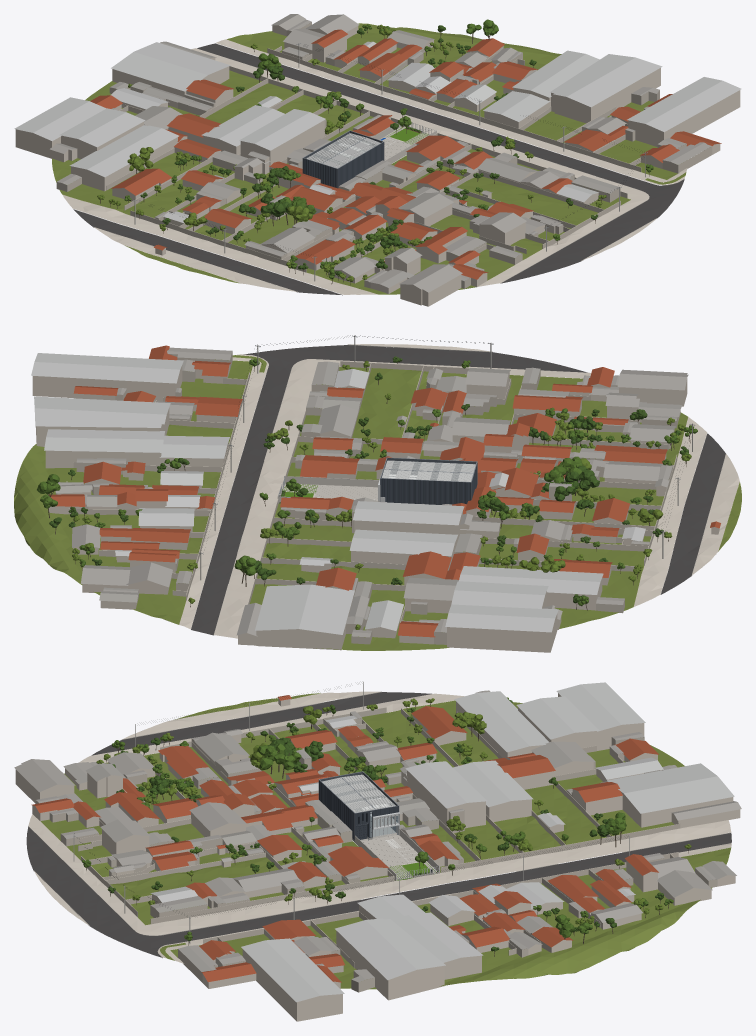
File: modelo.glb
3 views of the same model, one above another, from view 1: azimuth 30°, elevation 25°; view 2: azimuth 150°, elevation 25°; view 3: azimuth 270°, elevation 25° (orthographic). The views are drawn at different scales.
Parts seen in each view (by area): view 1: entorno_edificacoes__telha_metalica_viz, entorno_edificacoes__parede_vizinho, entorno_terreno_vias__terreno_vizinho, entorno_edificacoes__telha_ceramica, entorno_edificacoes__telha_fibrocimento, entorno_terreno_vias__calcada, entorno_terreno_vias__asfalto, entorno_muros__muro_vizinho, entorno_edificacoes__muro_vizinho, entorno_vegetacao__folhagem_1, entorno_vegetacao__folhagem_3, entorno_vegetacao__folhagem_2 (+4 smaller); view 2: entorno_edificacoes__telha_metalica_viz, entorno_terreno_vias__terreno_vizinho, entorno_edificacoes__telha_ceramica, entorno_edificacoes__parede_vizinho, entorno_edificacoes__telha_fibrocimento, entorno_terreno_vias__calcada, entorno_terreno_vias__asfalto, entorno_muros__muro_vizinho, entorno_vegetacao__folhagem_1, entorno_edificacoes__muro_vizinho, entorno_vegetacao__folhagem_2, entorno_vegetacao__folhagem_3 (+9 smaller); view 3: entorno_edificacoes__telha_metalica_viz, entorno_terreno_vias__terreno_vizinho, entorno_edificacoes__parede_vizinho, entorno_edificacoes__telha_ceramica, entorno_edificacoes__telha_fibrocimento, entorno_terreno_vias__calcada, entorno_terreno_vias__asfalto, entorno_muros__muro_vizinho, entorno_edificacoes__muro_vizinho, entorno_vegetacao__folhagem_2, entorno_vegetacao__folhagem_1, entorno_vegetacao__folhagem_3 (+6 smaller).
Boxes of the visible parts, bbox=[...] form: entorno_edificacoes__telha_metalica_viz: bbox=[14, 41, 741, 223]; entorno_edificacoes__parede_vizinho: bbox=[15, 25, 740, 306]; entorno_terreno_vias__terreno_vizinho: bbox=[52, 23, 686, 294]; entorno_edificacoes__telha_ceramica: bbox=[90, 29, 721, 279]; entorno_edificacoes__telha_fibrocimento: bbox=[50, 14, 711, 292]; entorno_terreno_vias__calcada: bbox=[62, 39, 687, 294]; entorno_terreno_vias__asfalto: bbox=[73, 43, 684, 295]; entorno_muros__muro_vizinho: bbox=[106, 44, 641, 274]; entorno_edificacoes__muro_vizinho: bbox=[56, 22, 712, 288]; entorno_vegetacao__folhagem_1: bbox=[76, 25, 598, 276]; entorno_vegetacao__folhagem_3: bbox=[97, 24, 606, 281]; entorno_vegetacao__folhagem_2: bbox=[73, 19, 653, 279]; entorno_edificacoes__telha_metalica_viz: bbox=[31, 353, 645, 634]; entorno_terreno_vias__terreno_vizinho: bbox=[14, 355, 741, 650]; entorno_edificacoes__telha_ceramica: bbox=[49, 345, 720, 637]; entorno_edificacoes__parede_vizinho: bbox=[32, 364, 719, 652]; entorno_edificacoes__telha_fibrocimento: bbox=[55, 347, 688, 637]; entorno_terreno_vias__calcada: bbox=[179, 344, 739, 638]; entorno_terreno_vias__asfalto: bbox=[191, 345, 725, 635]; entorno_muros__muro_vizinho: bbox=[66, 361, 677, 622]; entorno_vegetacao__folhagem_1: bbox=[49, 356, 688, 603]; entorno_edificacoes__muro_vizinho: bbox=[55, 352, 677, 644]; entorno_vegetacao__folhagem_2: bbox=[37, 358, 697, 606]; entorno_vegetacao__folhagem_3: bbox=[72, 360, 691, 629]; entorno_edificacoes__telha_metalica_viz: bbox=[150, 682, 734, 1002]; entorno_terreno_vias__terreno_vizinho: bbox=[40, 693, 731, 989]; entorno_edificacoes__parede_vizinho: bbox=[15, 693, 740, 1021]; entorno_edificacoes__telha_ceramica: bbox=[31, 695, 659, 982]; entorno_edificacoes__telha_fibrocimento: bbox=[14, 690, 741, 982]; entorno_terreno_vias__calcada: bbox=[28, 691, 731, 963]; entorno_terreno_vias__asfalto: bbox=[26, 692, 731, 957]; entorno_muros__muro_vizinho: bbox=[77, 707, 680, 968]; entorno_edificacoes__muro_vizinho: bbox=[35, 712, 717, 992]; entorno_vegetacao__folhagem_2: bbox=[81, 697, 673, 940]; entorno_vegetacao__folhagem_1: bbox=[107, 700, 663, 951]; entorno_vegetacao__folhagem_3: bbox=[96, 698, 691, 924].
Size of the model in its own units: 233 by 14.21 by 217.
Materials: 45 (1 with a texture image).
